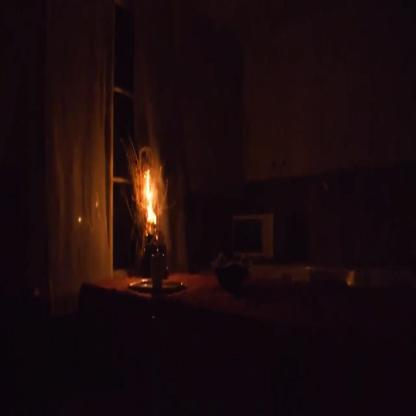fire: (141, 162, 161, 231)
